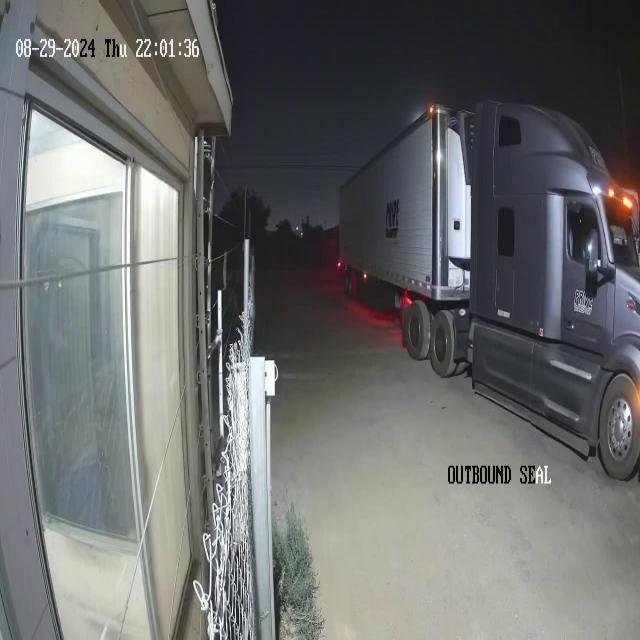TRUCK_CONTAINER: (336, 97, 639, 481)
